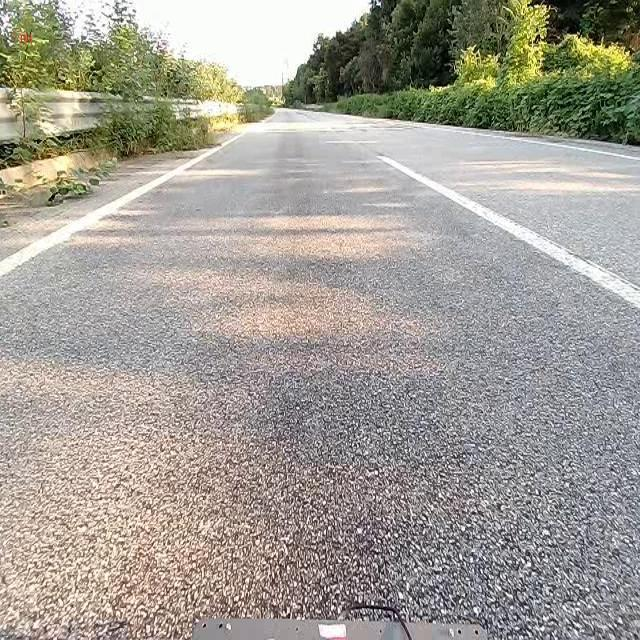Lane: (373, 148, 640, 310), (377, 155, 639, 309), (2, 123, 255, 278), (0, 129, 246, 278)
